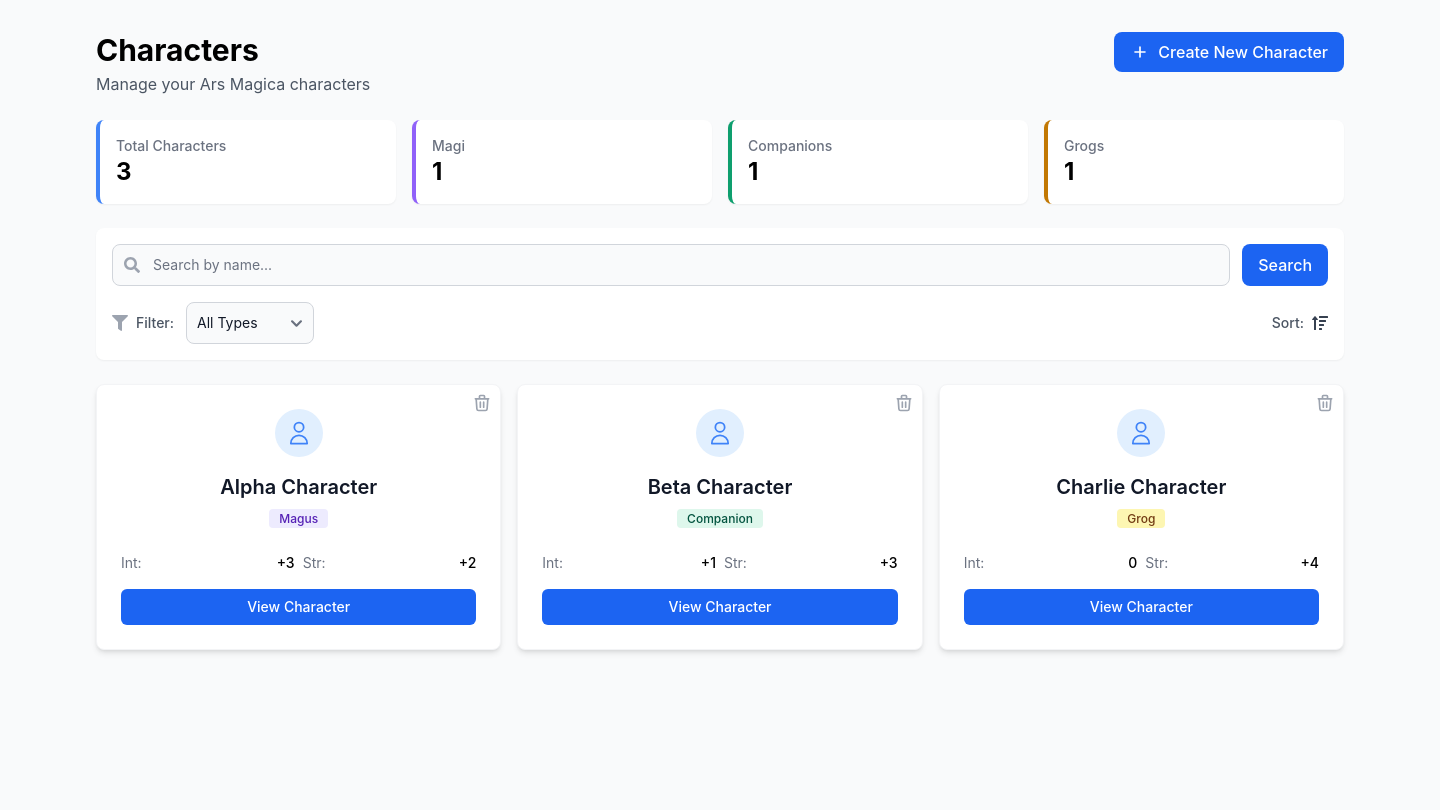
Test: CharacterListPage › filters characters by search term
The width and height of the screenshot is (1440, 810).
Type "Alpha" into the field with placeholder "Search by name...". click: [671, 265]
box: [112, 244, 1230, 286]
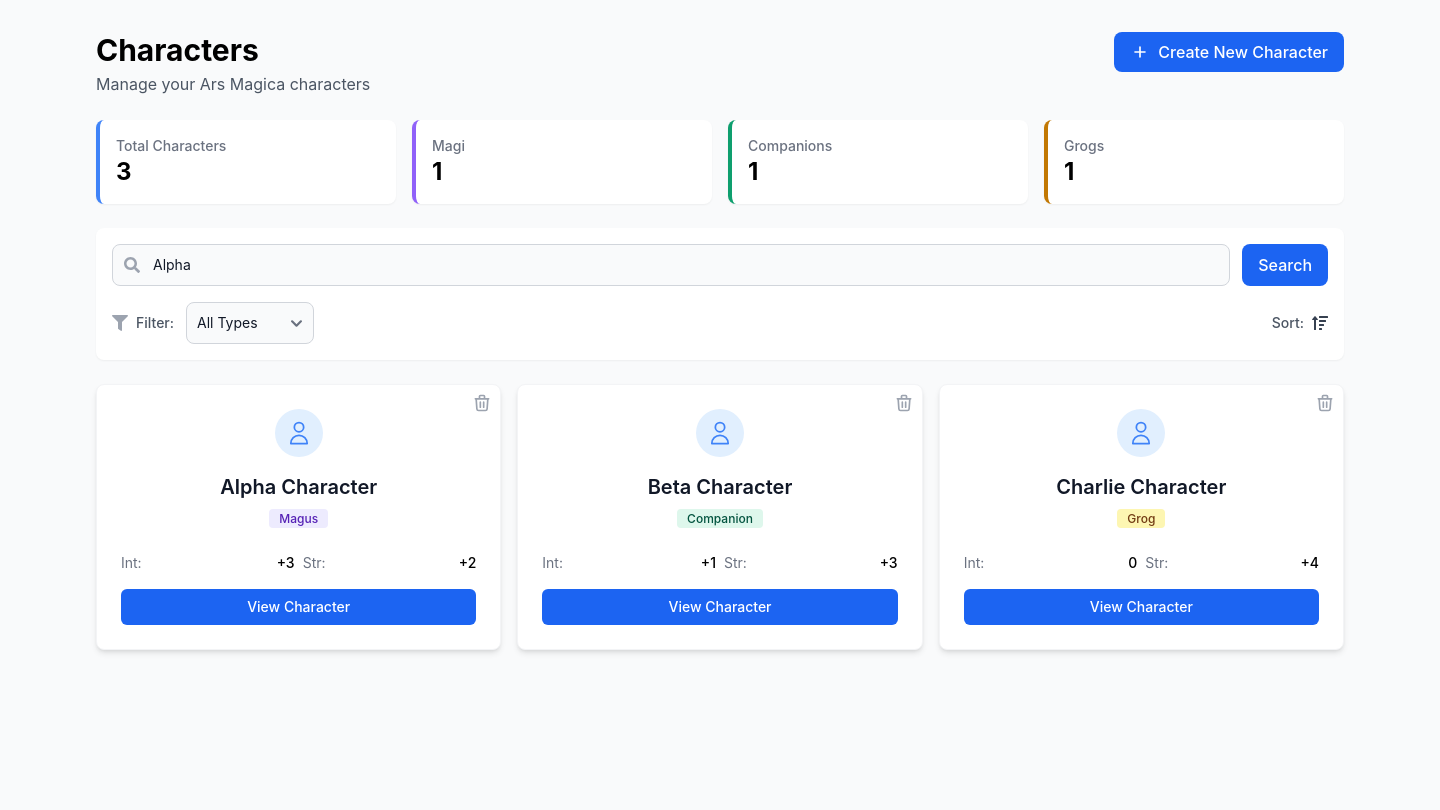
Submit the form with placeholder "Search by name...", box [112, 244, 1328, 286]
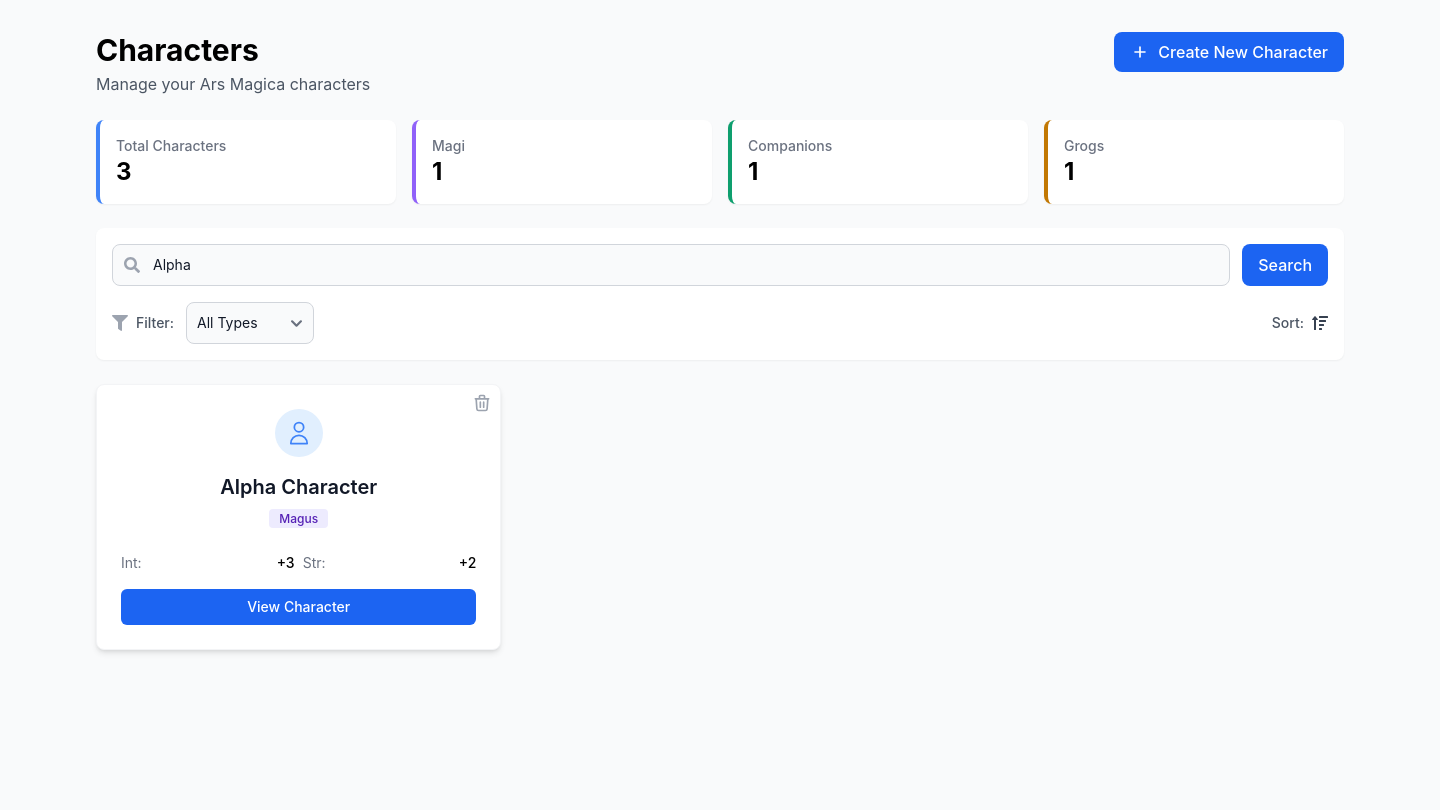
Check: the heading "Alpha Character" is shown, box [220, 473, 377, 501]
Check: the heading "Beta Character" is gone
Check: the heading "Charlie Character" is gone
